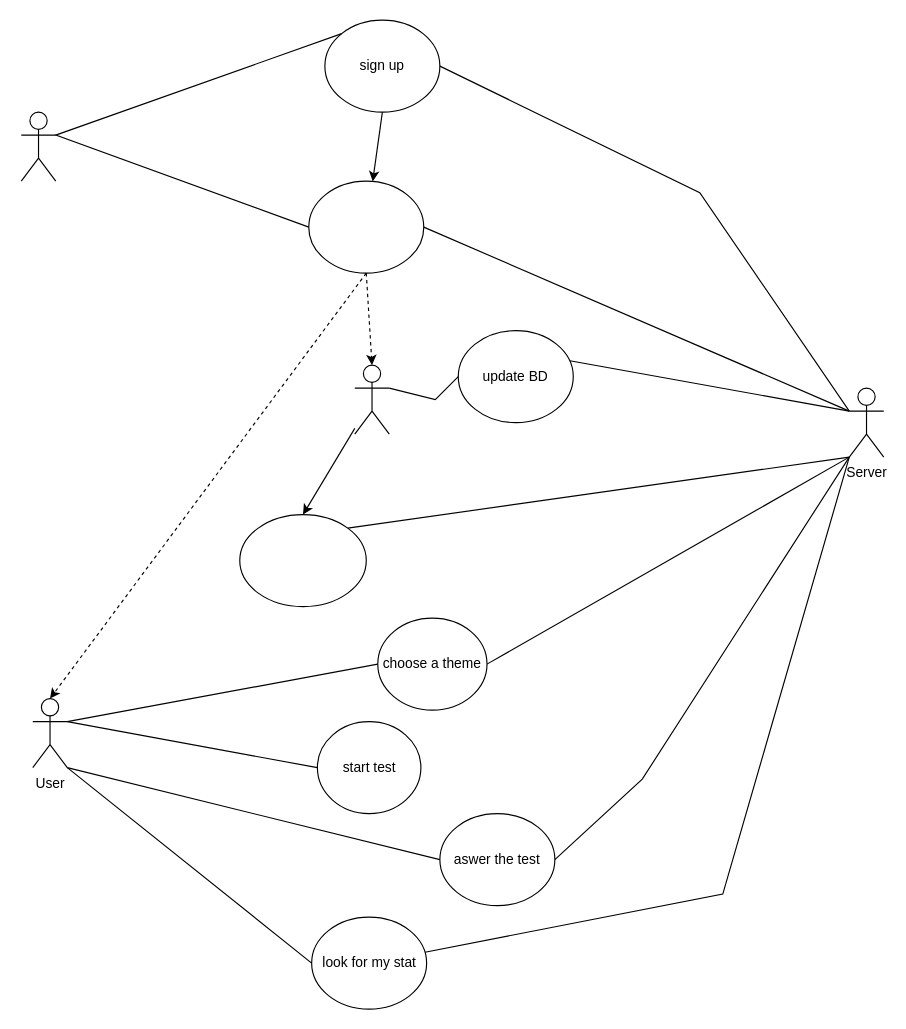
Some shapes in this 906 by 1029 pixel diagram are drawn without their labels. The centre of each missing label's shape, as x and y in pixels:
"Admin" belongs at (371,399).
"Guest" belongs at (38,146).
"look for all stat" belongs at (302,560).
"sign in" belongs at (366,226).
